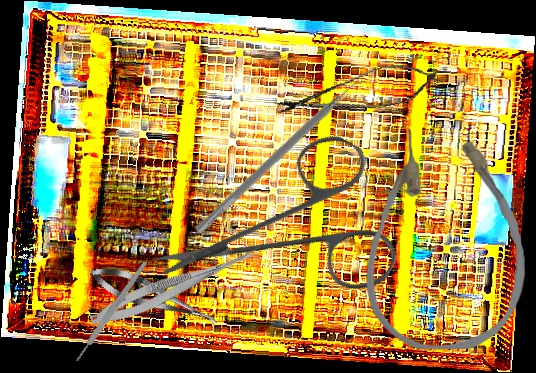Cannula: (366, 129, 525, 349)
Iris Scissors: (151, 87, 436, 370)
Micro Scissor: (86, 235, 266, 334), (271, 55, 445, 130), (85, 258, 223, 336)
Scalpel Handle: (73, 260, 149, 363)
Spatula Surgical: (193, 68, 373, 243)
